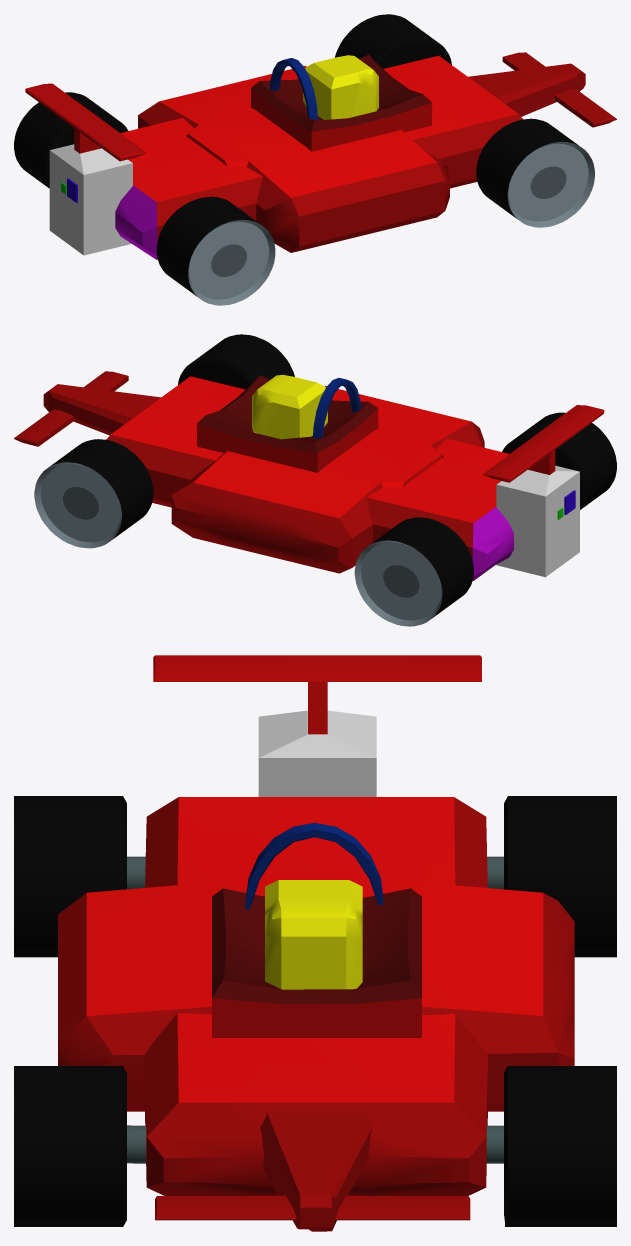
The model's file is Car.fbx.
3 views of the same model, one above another, from view 1: azimuth 30°, elevation 25°; view 2: azimuth 150°, elevation 25°; view 3: azimuth 270°, elevation 25° (orthographic). The views are drawn at different scales.
Parts seen in each view (by area): view 1: pCube5, pCube1, Right_Back, Right_Front, pCube6, Cock_Pit, Left_Front, Player_Helmet, Left_Back, pCube4, pCube2, pCube3 (+1 smaller); view 2: pCube5, pCube1, Left_Back, Left_Front, Cock_Pit, pCube6, Right_Front, Player_Helmet, Right_Back, pCube4, pCube2, pCube3 (+1 smaller); view 3: pCube1, pCube5, Cock_Pit, Left_Front (×2), Right_Front, Right_Back, Left_Back, Player_Helmet, pCube4, pCube6, pCube2, pCube3 (+2 smaller).
Boxes of the visible parts, x1=… form: pCube5: x1=138, y1=66, x2=449, y2=252; pCube1: x1=115, y1=55, x2=522, y2=259; Right_Back: x1=156, y1=196, x2=275, y2=305; Right_Front: x1=476, y1=118, x2=594, y2=227; pCube6: x1=49, y1=144, x2=132, y2=255; Cock_Pit: x1=251, y1=54, x2=432, y2=151; Left_Front: x1=335, y1=14, x2=451, y2=68; Player_Helmet: x1=303, y1=55, x2=378, y2=119; Left_Back: x1=14, y1=92, x2=128, y2=188; pCube4: x1=468, y1=63, x2=585, y2=116; pCube2: x1=25, y1=83, x2=146, y2=161; pCube3: x1=502, y1=52, x2=616, y2=127; pCube5: x1=171, y1=386, x2=484, y2=573; pCube1: x1=106, y1=376, x2=513, y2=580; Left_Back: x1=354, y1=517, x2=473, y2=626; Left_Front: x1=34, y1=439, x2=153, y2=548; Cock_Pit: x1=196, y1=375, x2=378, y2=472; pCube6: x1=496, y1=465, x2=579, y2=577; Right_Front: x1=178, y1=334, x2=294, y2=389; Player_Helmet: x1=252, y1=374, x2=327, y2=439; Right_Back: x1=502, y1=412, x2=616, y2=509; pCube4: x1=43, y1=384, x2=160, y2=435; pCube2: x1=482, y1=405, x2=604, y2=482; pCube3: x1=14, y1=371, x2=128, y2=446; pCube1: x1=144, y1=797, x2=488, y2=1195; pCube5: x1=58, y1=866, x2=574, y2=1111; Cock_Pit: x1=212, y1=888, x2=421, y2=1037; Left_Front (×2): x1=127, y1=1066, x2=616, y2=1226; Right_Front: x1=14, y1=1066, x2=126, y2=1226; Right_Back: x1=14, y1=796, x2=126, y2=957; Left_Back: x1=504, y1=796, x2=616, y2=957; Player_Helmet: x1=265, y1=880, x2=362, y2=989; pCube4: x1=260, y1=1111, x2=372, y2=1231; pCube6: x1=258, y1=710, x2=376, y2=796; pCube2: x1=153, y1=655, x2=481, y2=681; pCube3: x1=155, y1=1195, x2=470, y2=1220.
Bounding box in the file's own units: 16.96 × 4.51 × 9.93.
